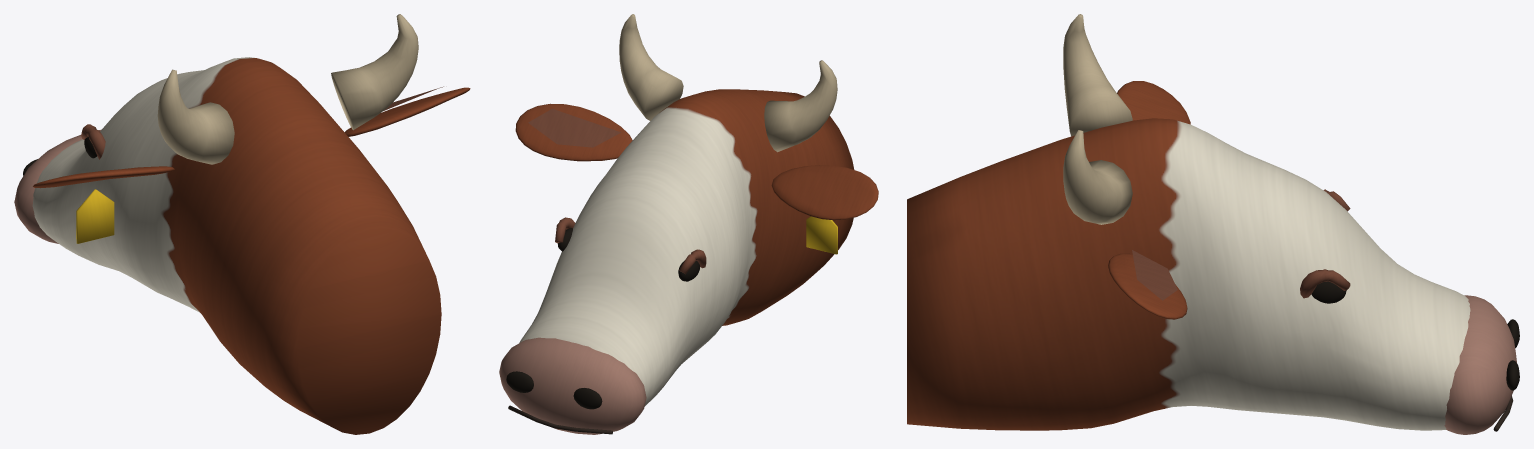
The model's file is SM_Cow_Alive_Head_LOD1.glb.
3 renders of one model, left to right at view 1: azimuth 30°, elevation 25°; view 2: azimuth 150°, elevation 25°; view 3: azimuth 270°, elevation 25°, orthographic. The views are drawn at different scales.
Visible parts, largest first — view 1: SM_Cow_Alive_Head_LOD1; view 2: SM_Cow_Alive_Head_LOD1; view 3: SM_Cow_Alive_Head_LOD1.
Part boxes in pixels (<box>): SM_Cow_Alive_Head_LOD1: <box>14,14,470,434</box>; SM_Cow_Alive_Head_LOD1: <box>499,14,878,434</box>; SM_Cow_Alive_Head_LOD1: <box>907,14,1519,434</box>.
Size of the model in its own units: 1.02 by 0.7606 by 1.2.
8 materials, 8 textured.
